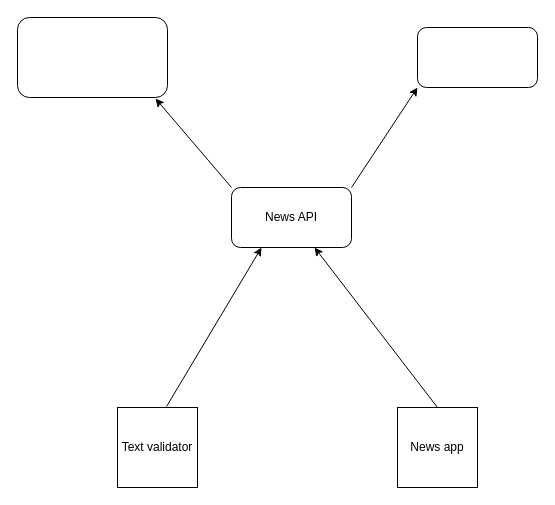
Some shapes in this 555 by 505 pixel diagram are drawn without their labels. Each missing label, with the centre of its shape:
"Crawling" goes at point 477,57.
"Fake News Classifier" goes at point 92,57.
